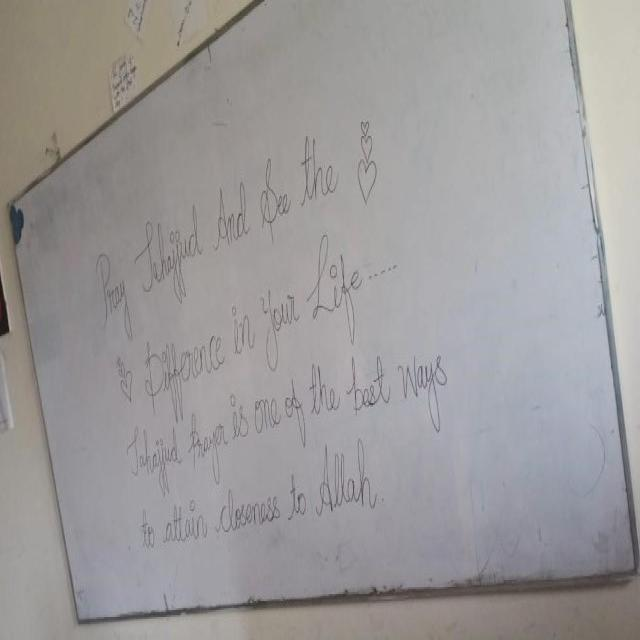White-board: (12, 0, 640, 623)
